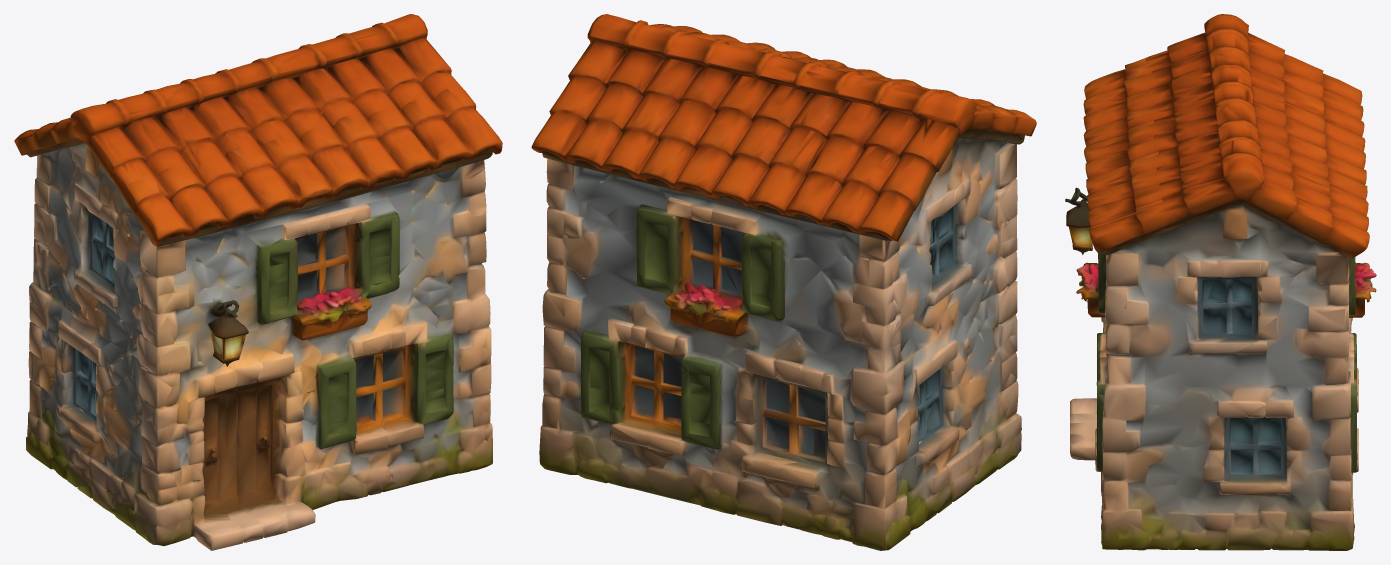
Rendered from Piece05.fbx.
3 views of the same model, side by side, from view 1: azimuth 30°, elevation 25°; view 2: azimuth 150°, elevation 25°; view 3: azimuth 270°, elevation 25° (orthographic). The views are drawn at different scales.
Visible parts, largest first — view 1: Piece05; view 2: Piece05; view 3: Piece05.
Part boxes in pixels (left/top/right/bottom): Piece05: left=14, top=14, right=502, bottom=550; Piece05: left=531, top=14, right=1036, bottom=550; Piece05: left=1065, top=14, right=1376, bottom=550.
Bounding box in the file's own units: 92.92 × 100 × 73.96.
Materials: 1 (1 with a texture image).
